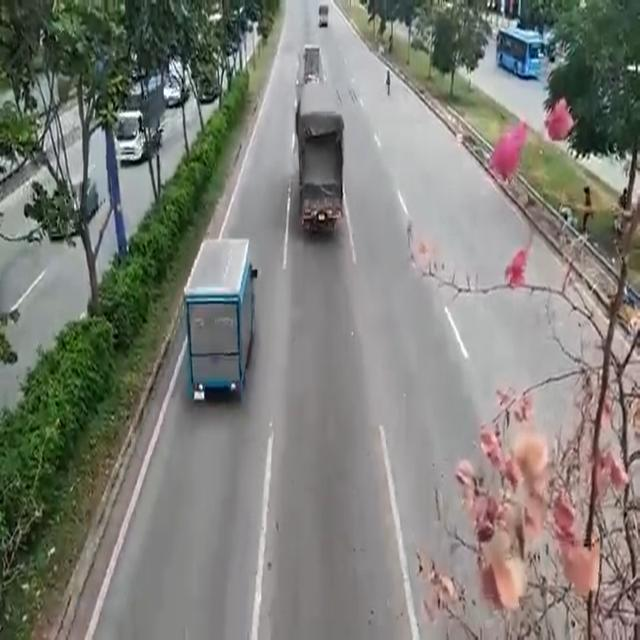truck: (189, 236, 254, 402), (296, 77, 345, 226)
